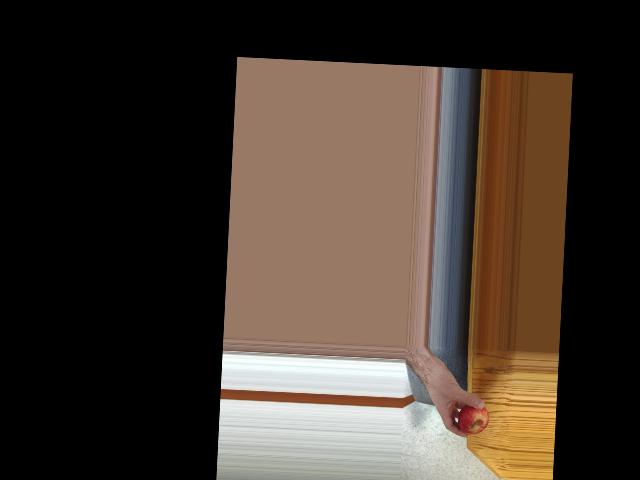apple: (456, 399, 489, 435)
